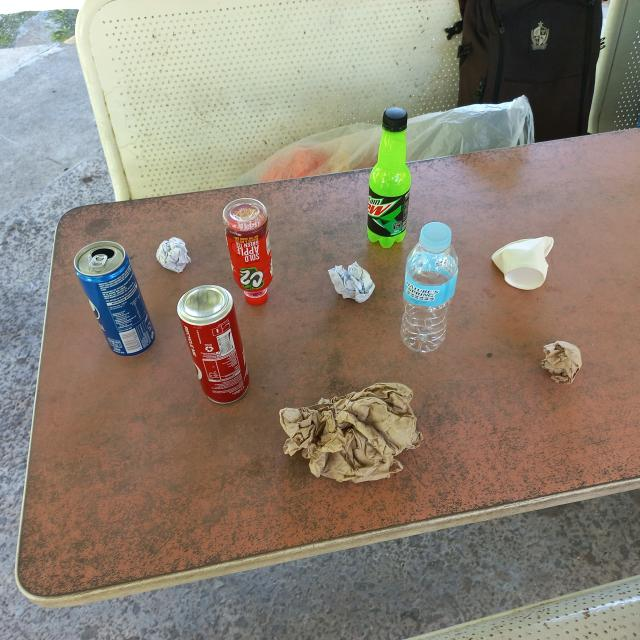Anorganik: (70, 235, 160, 360), (170, 280, 256, 408), (395, 215, 463, 359), (362, 103, 416, 252), (217, 193, 277, 309)
Organik: (273, 376, 430, 490), (486, 229, 558, 297), (323, 255, 380, 308), (533, 334, 587, 388), (153, 231, 195, 277)
